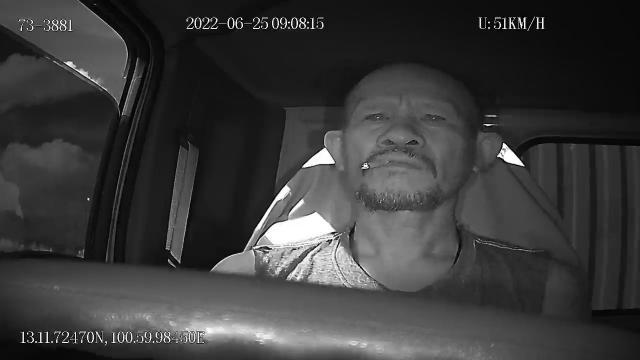SafeDriving: (412, 102, 452, 130), (357, 103, 397, 128)
Smoking: (360, 160, 390, 170)
